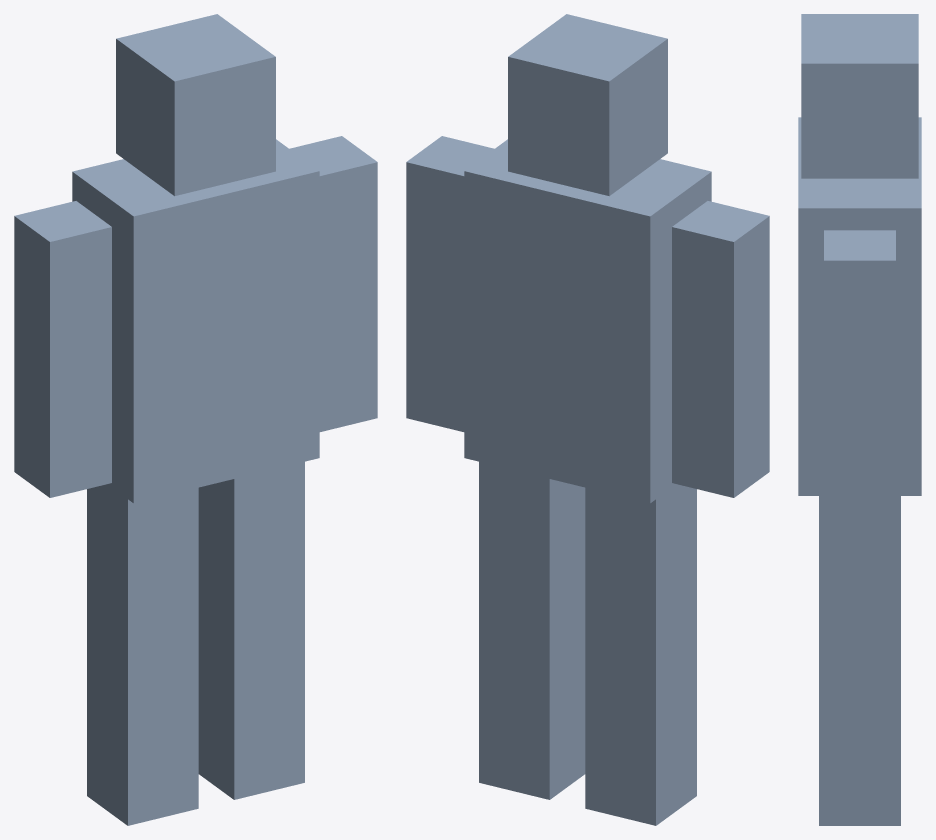
The model's file is warrior_player.glb.
The picture shows the model from 3 angles, left to right: view 1: azimuth 30°, elevation 25°; view 2: azimuth 150°, elevation 25°; view 3: azimuth 270°, elevation 25°; orthographic projection.
Visible parts, largest first — view 1: warrior_player; view 2: warrior_player; view 3: warrior_player.
Boxes of the visible parts, <box> form: warrior_player: <box>14,14,377,825</box>; warrior_player: <box>406,14,769,825</box>; warrior_player: <box>798,14,921,825</box>.
Bounding box in the file's own units: 0.777 × 1.68 × 0.252.
